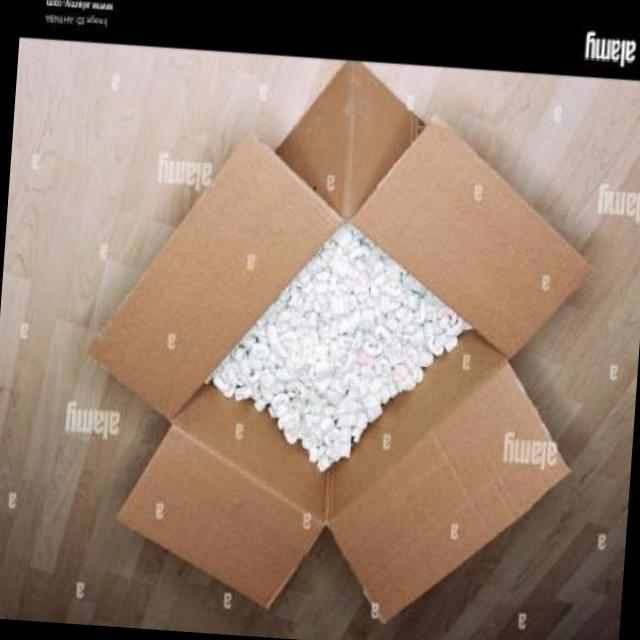box: (70, 41, 605, 638)
